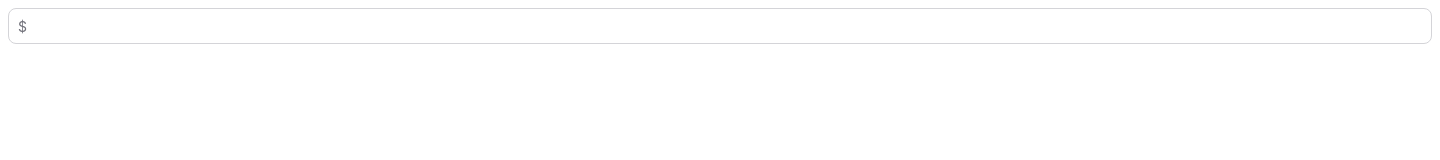
Test: NumberInput › pads currency decimals on blur
This screenshot has width=1440, height=160.
Type "12.5" into the field named "Amount" at (720, 26), box x1=8 y1=8 x2=1432 y2=44
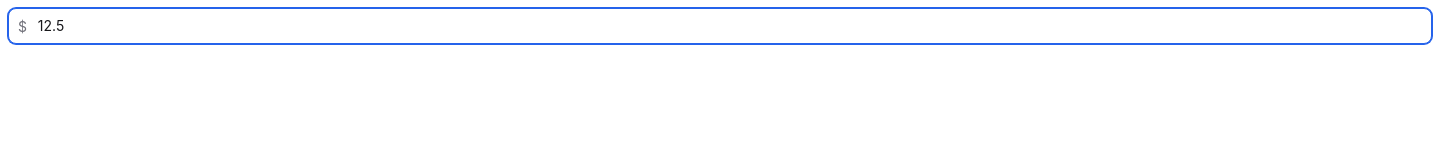
Press Tab
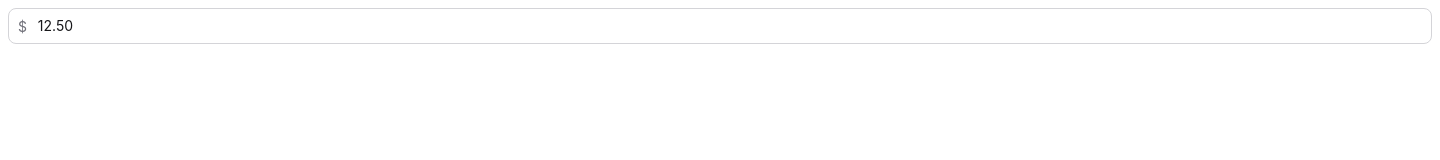
Check: the field named "Amount" holds "12.50", box x1=8 y1=8 x2=1432 y2=44
